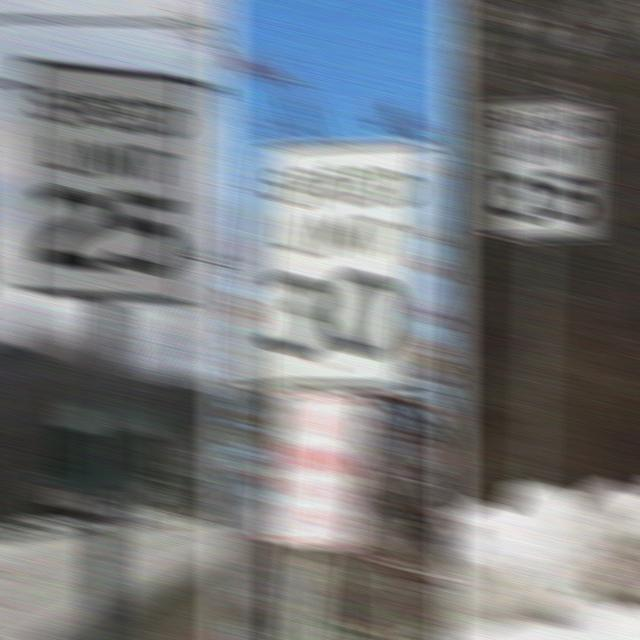speedLimit25: (14, 60, 204, 302)
speedLimit30: (249, 138, 418, 384)
speedLimit35: (492, 86, 594, 241)
